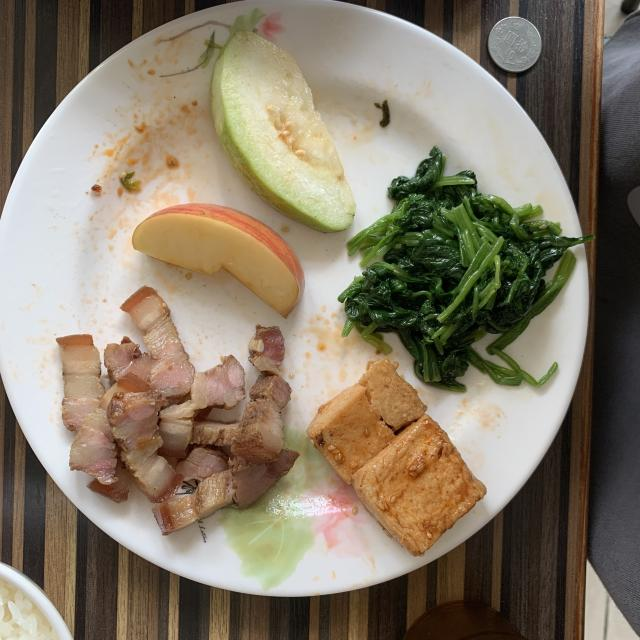apple -sliced-: (132, 204, 305, 318)
coin: (488, 16, 541, 72)
creamy tofu: (308, 359, 486, 555)
grilled pork: (58, 286, 299, 534)
guava -sliced-: (210, 30, 355, 232)
mustard greens: (339, 146, 594, 391)
